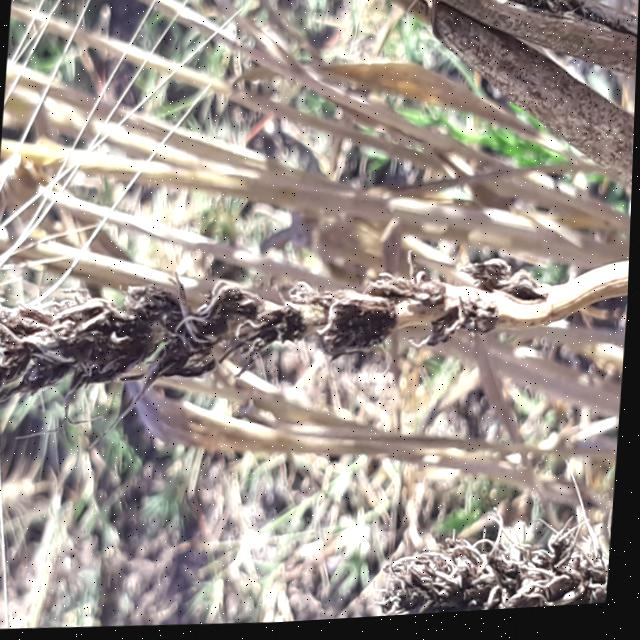loose_charred: (0, 198, 633, 475), (354, 0, 640, 207), (362, 487, 618, 622)
